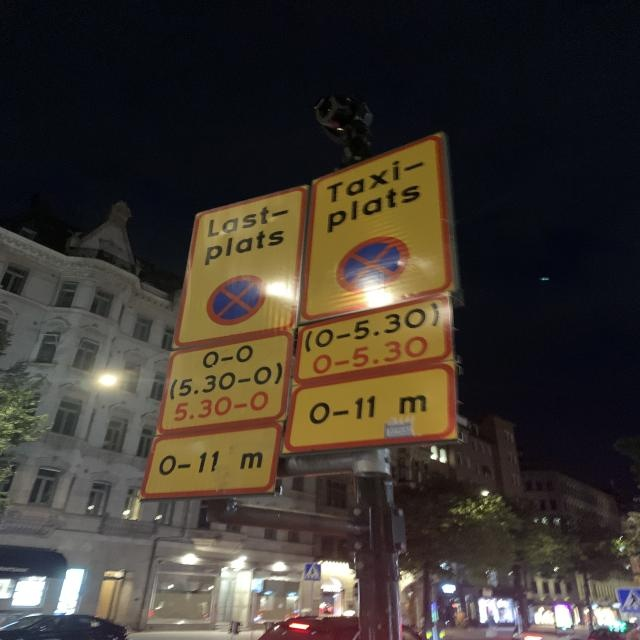lastplats: (167, 184, 310, 348)
